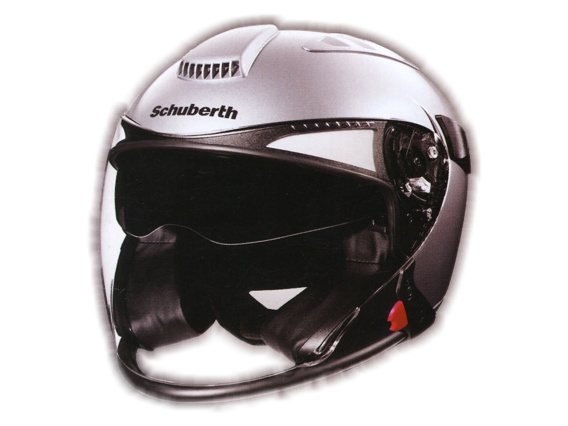helmet: (120, 33, 484, 353)
